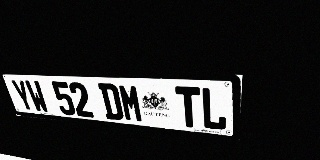2: (67, 82, 94, 118)
5: (51, 81, 77, 116)
D: (98, 83, 124, 121)
L: (201, 87, 227, 131)
M: (118, 84, 144, 123)
T: (175, 86, 201, 128)
W: (24, 80, 50, 113)
Y: (10, 79, 36, 112)
